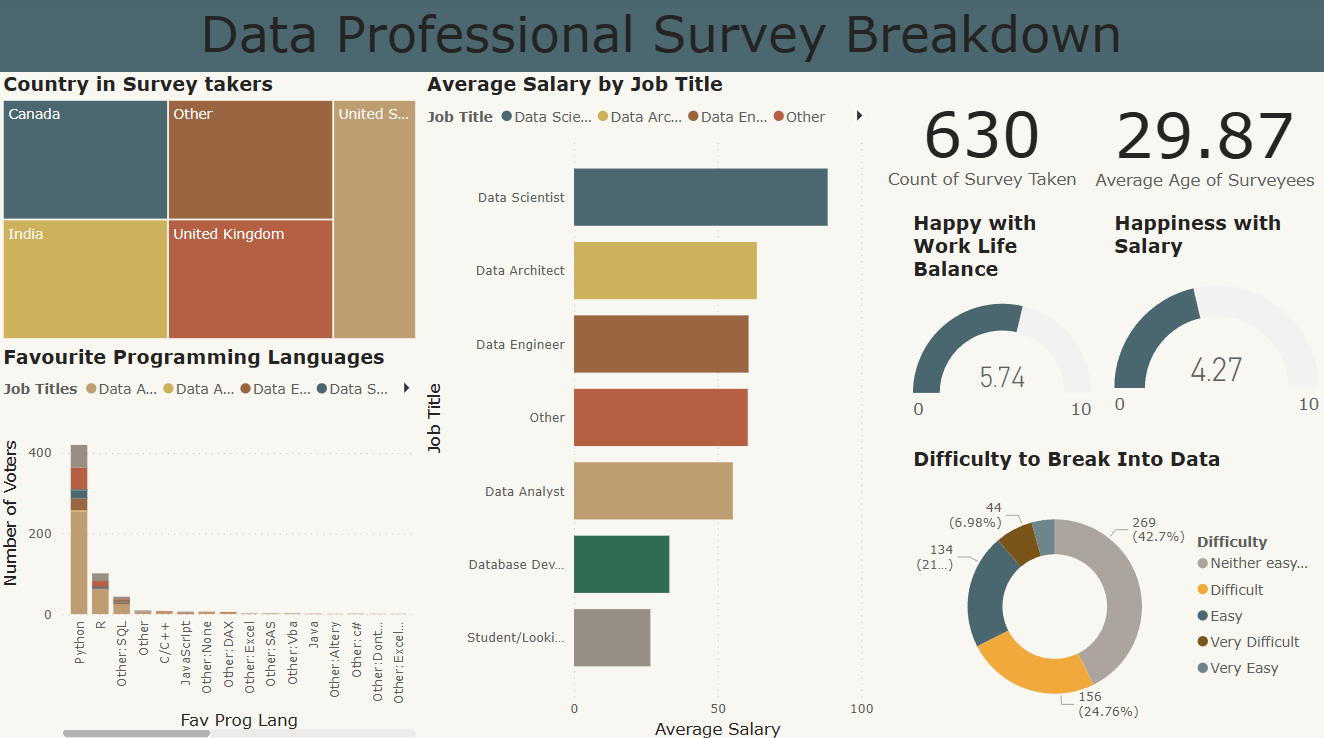

The dashboard page shown, as its layout file describes it:
{"tool":"powerbi","page":{"name":"Page 1","canvas":[1280,720],"ordinal":0},"visuals":[{"type":"textbox","box":[0,0,1280,72.9],"z":0},{"type":"card","fields":{"Values":["Count(Data Professional Survey.Unique ID)"]},"box":[914.3,72.9,182.9,150],"z":1},{"type":"card","fields":{"Values":["Avg(Data Professional Survey.Q10 - Current Age)"]},"box":[1097.1,72.9,182.9,150],"z":2},{"type":"barChart","title":"Average Salary by Job Title","fields":{"Category":["Data Professional Survey.Q1 - Which Title Best Fits your Current Role?.1"],"Y":["Avg(Data Professional Survey.Average Salary)"],"Series":["Data Professional Survey.Q1 - Which Title Best Fits your Current Role?.1"]},"box":[408.6,72.9,505.7,647.1],"z":3},{"type":"columnChart","title":"Favourite Programming Languages","fields":{"Category":["Data Professional Survey.Q5 - Favorite Programming Language"],"Y":["CountNonNull(Data Professional Survey.Unique ID)"],"Series":["Data Professional Survey.Q1 - Which Title Best Fits your Current Role?.1"]},"box":[0,335.7,408.6,384.3],"z":4},{"type":"treemap","title":"Country in Survey takers","fields":{"Group":["Data Professional Survey.Q11 - Which Country do you live in?.1"],"Values":["Count(Data Professional Survey.Q11 - Which Country do you live in?.1)"]},"box":[0,72.9,408.6,262.9],"z":5},{"type":"gauge","title":"Happiness with Salary","fields":{"Y":["Avg(Data Professional Survey.Q6 - How Happy are you in your Current Position with the following? (Salary))"],"MinValue":["Min(Data Professional Survey.Q6 - How Happy are you in your Current Position with the following? (Salary))"],"MaxValue":["Max(Data Professional Survey.Q6 - How Happy are you in your Current Position with the following? (Salary))"]},"box":[1107.1,205.7,172.9,261.4],"z":6},{"type":"gauge","title":"Happy with Work Life Balance","fields":{"Y":["Avg(Data Professional Survey.Q6 - How Happy are you in your Current Position with the following? (Work/Life Balance))"],"MinValue":["Min(Data Professional Survey.Q6 - How Happy are you in your Current Position with the following? (Work/Life Balance))1"],"MaxValue":["Max(Data Professional Survey.Q6 - How Happy are you in your Current Position with the following? (Work/Life Balance))2"]},"box":[914.3,222.9,172.9,224.3],"z":7},{"type":"donutChart","title":"Difficulty to Break Into Data","fields":{"Category":["Data Professional Survey.Q7 - How difficult was it for you to break into Data?"],"Y":["CountNonNull(Data Professional Survey.Q7 - How difficult was it for you to break into Data?)"]},"box":[914.3,407.1,365.7,312.9],"z":8}]}

Visuals, with their boxes in screenshot pixels (x1, y1, x2, y2), scaled from the page's 1280x720 canvas onto the 1324x738 screenshot:
textbox: bbox=[0, 0, 1323, 75]
card - Count(Data Professional Survey.Unique ID): bbox=[946, 75, 1135, 228]
card - Avg(Data Professional Survey.Q10 - Current Age): bbox=[1135, 75, 1323, 228]
"Average Salary by Job Title" barChart: bbox=[423, 75, 946, 737]
"Favourite Programming Languages" columnChart: bbox=[0, 344, 423, 737]
"Country in Survey takers" treemap: bbox=[0, 75, 423, 344]
"Happiness with Salary" gauge: bbox=[1145, 211, 1323, 479]
"Happy with Work Life Balance" gauge: bbox=[946, 228, 1125, 458]
"Difficulty to Break Into Data" donutChart: bbox=[946, 417, 1323, 737]
